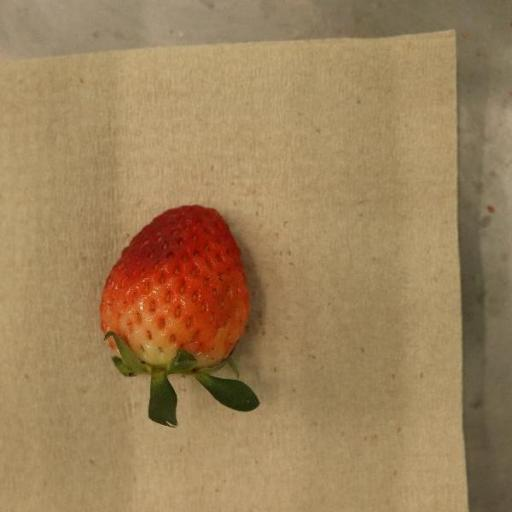Strawberry: (100, 205, 261, 428)
